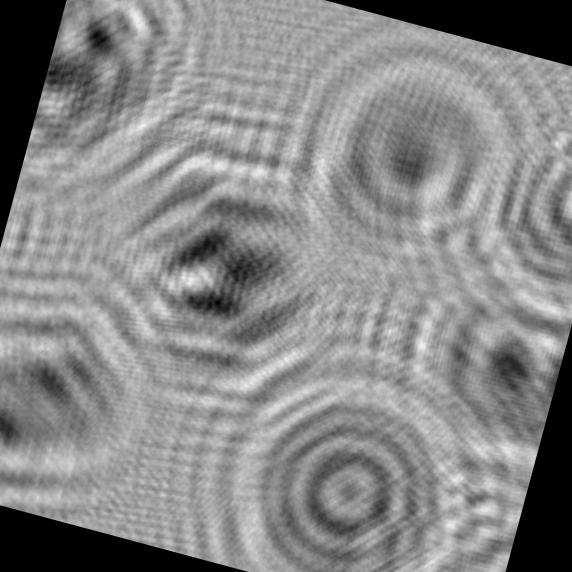C: (454, 51, 572, 314)
F: (372, 226, 572, 474)
J: (287, 16, 537, 295)
Q: (193, 318, 525, 572)
R: (19, 0, 216, 211)
W: (58, 87, 380, 436)
Z: (0, 273, 175, 531), (412, 453, 532, 572)
